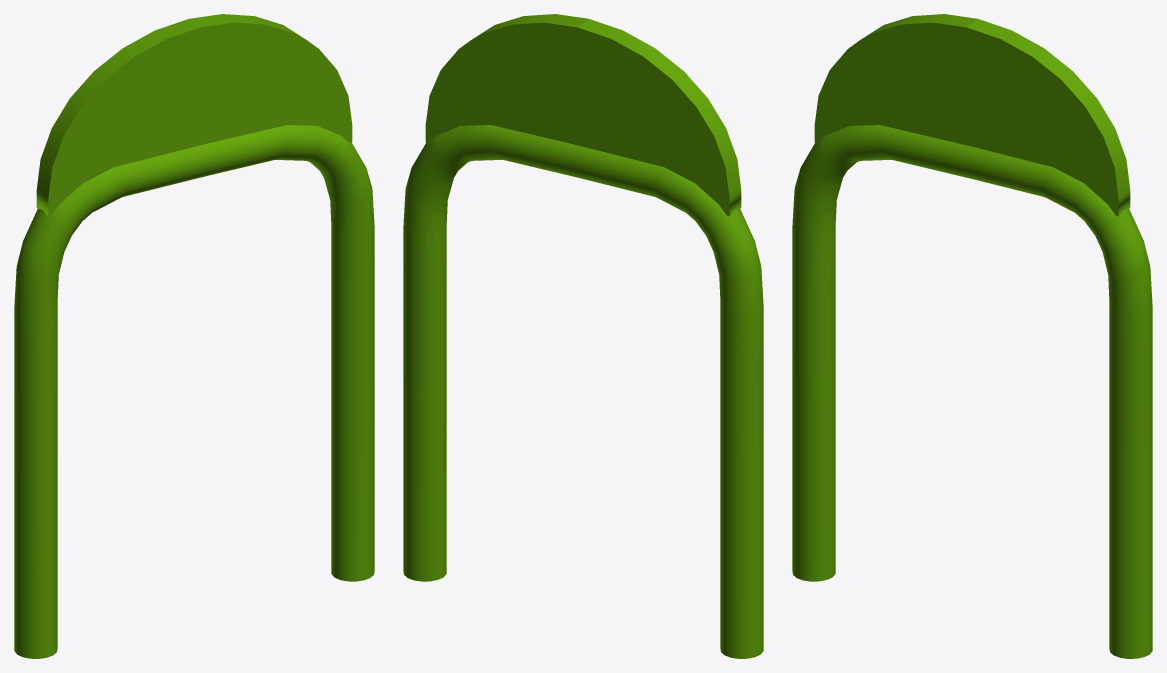
The model's file is Green Door.fbx.
3 views of the same model, side by side, from view 1: azimuth 30°, elevation 25°; view 2: azimuth 150°, elevation 25°; view 3: azimuth 330°, elevation 25° (orthographic).
Parts seen in each view (by area): view 1: door_pay_raise_v1; view 2: door_pay_raise_v1; view 3: door_pay_raise_v1.
Part boxes in pixels (x1,y1,x2,y2): door_pay_raise_v1: (14, 14, 374, 658); door_pay_raise_v1: (403, 14, 763, 658); door_pay_raise_v1: (792, 14, 1152, 658).
Size of the model in its own units: 269 by 425 by 28.25.
